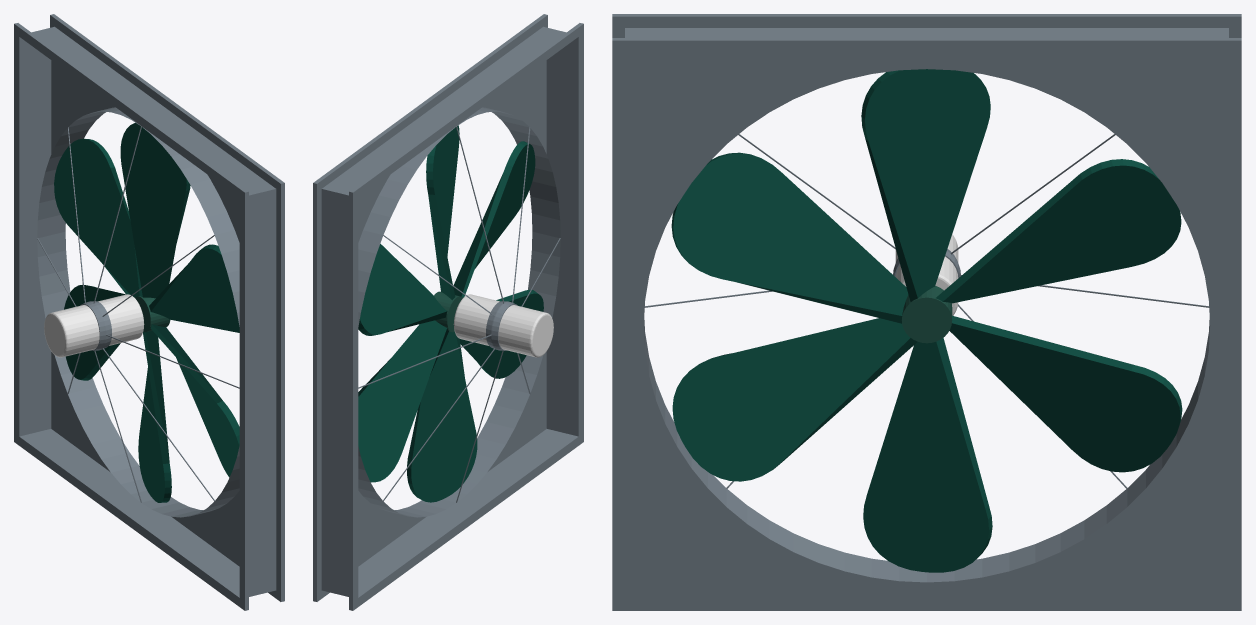
The model's file is FanPropeller.glb.
3 views of the same model, side by side, from view 1: azimuth 30°, elevation 25°; view 2: azimuth 150°, elevation 25°; view 3: azimuth 270°, elevation 25° (orthographic). The views are drawn at different scales.
Parts seen in each view (by area): view 1: child.003, child.001, child.004, child.002; view 2: child.003, child.001, child.004, child.002; view 3: child.001, child.004, child.003, child.002.
Part boxes in pixels (bbox=[...]): child.003: bbox=[14, 14, 284, 610]; child.001: bbox=[54, 122, 239, 502]; child.004: bbox=[37, 60, 239, 566]; child.002: bbox=[44, 294, 144, 357]; child.003: bbox=[313, 14, 583, 610]; child.001: bbox=[358, 125, 543, 502]; child.004: bbox=[358, 60, 560, 566]; child.002: bbox=[453, 294, 553, 357]; child.001: bbox=[671, 69, 1182, 572]; child.004: bbox=[626, 53, 1227, 598]; child.003: bbox=[612, 14, 1241, 610]; child.002: bbox=[895, 234, 958, 315].
Bounding box in the file's own units: 287 × 1000 × 1000.
